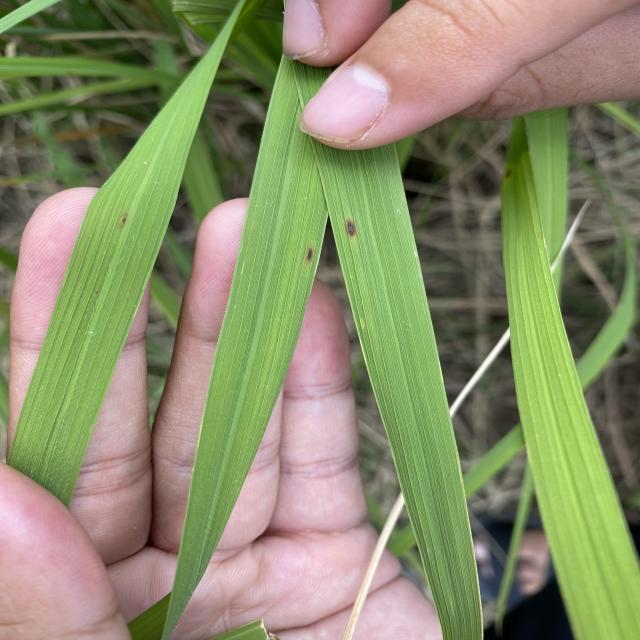Dom nau: (342, 215, 359, 240), (302, 244, 315, 266), (118, 213, 129, 227)
